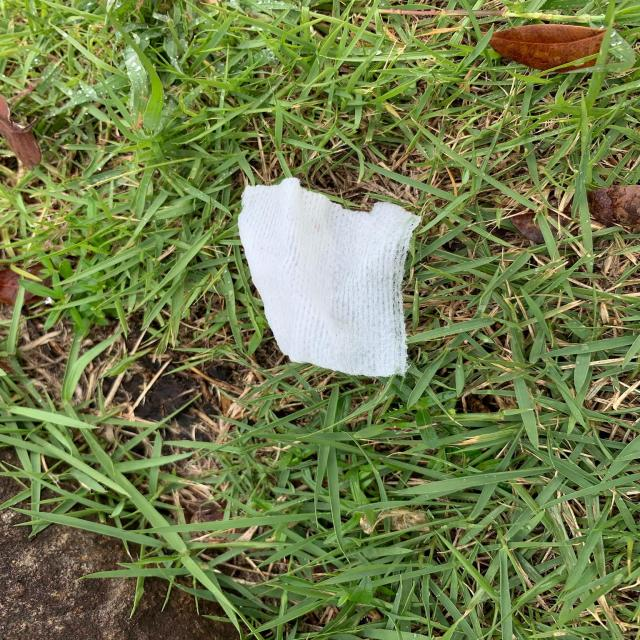litter: (238, 179, 422, 376)
